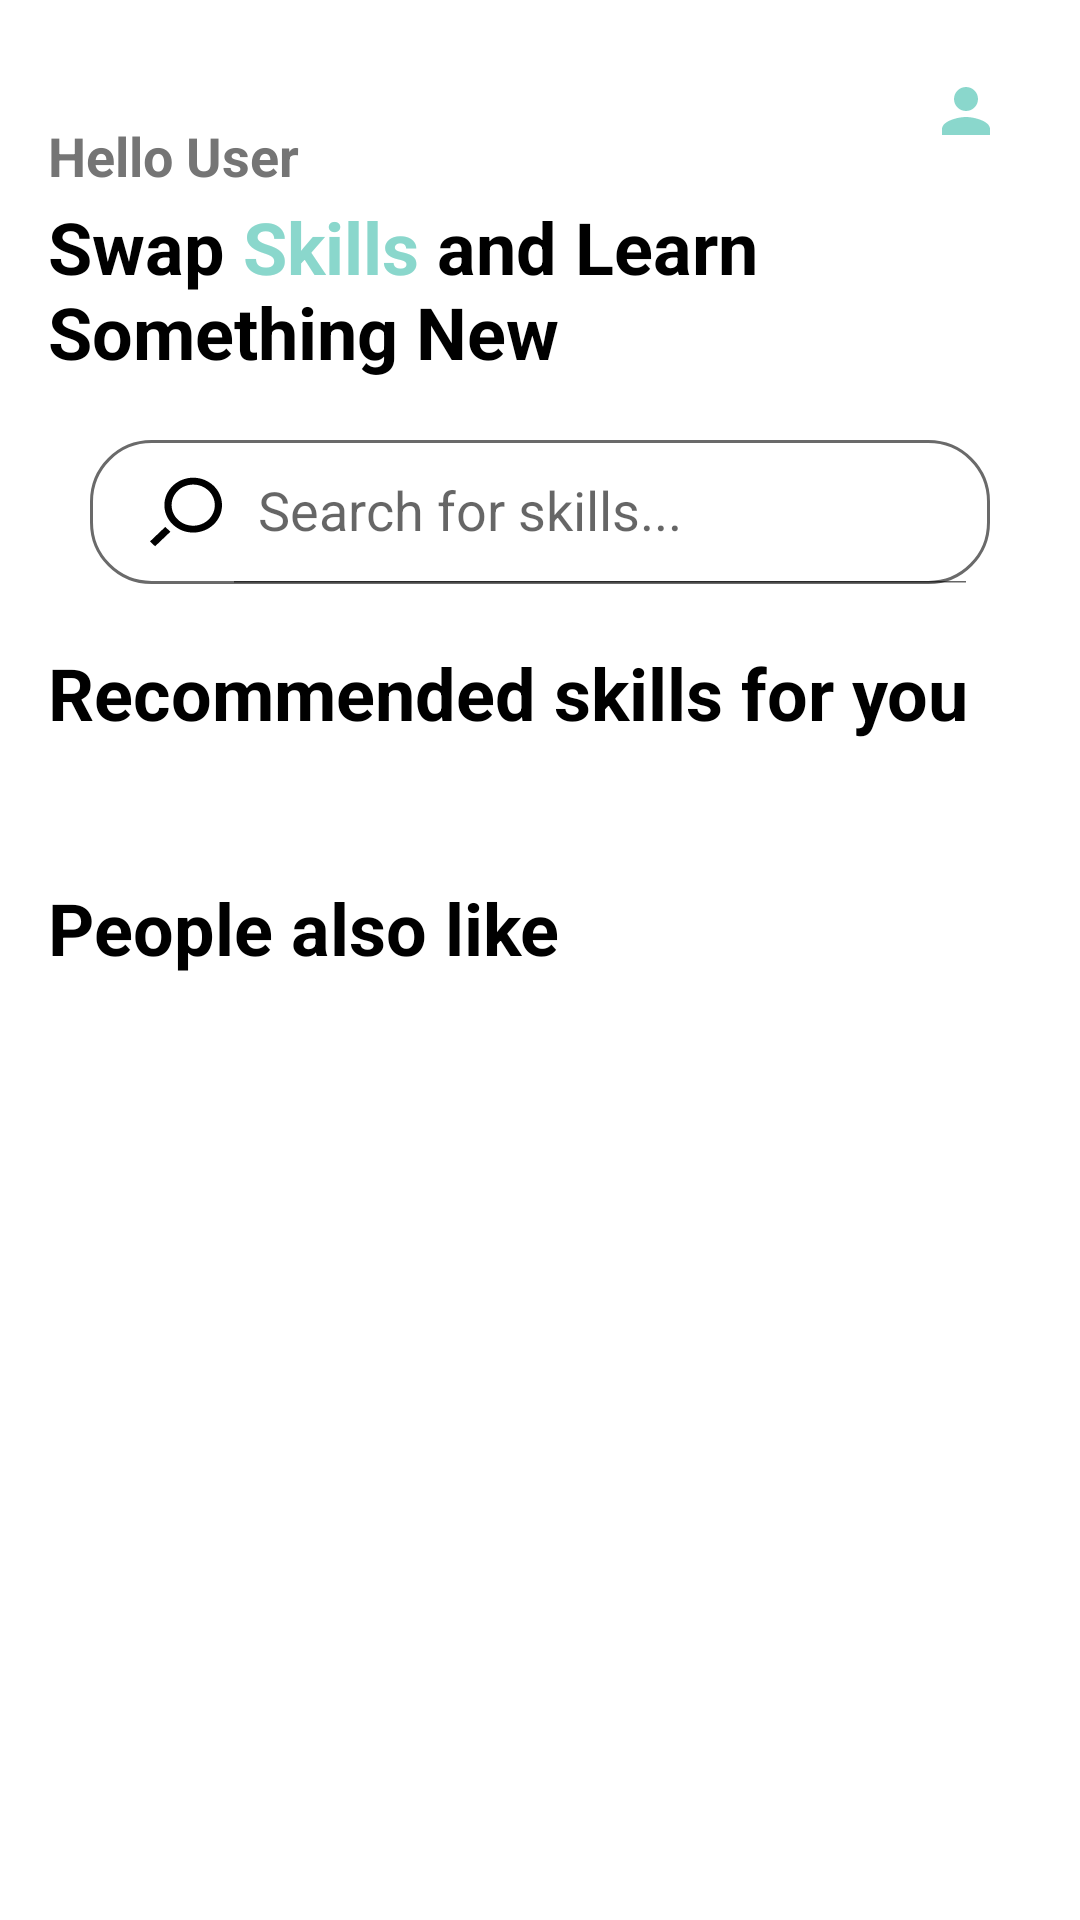

Named icons in this screenshot (1080px×1920px) and their bounding boxes, [x1, y1, x2, y2]:
person: [942, 87, 990, 135]
